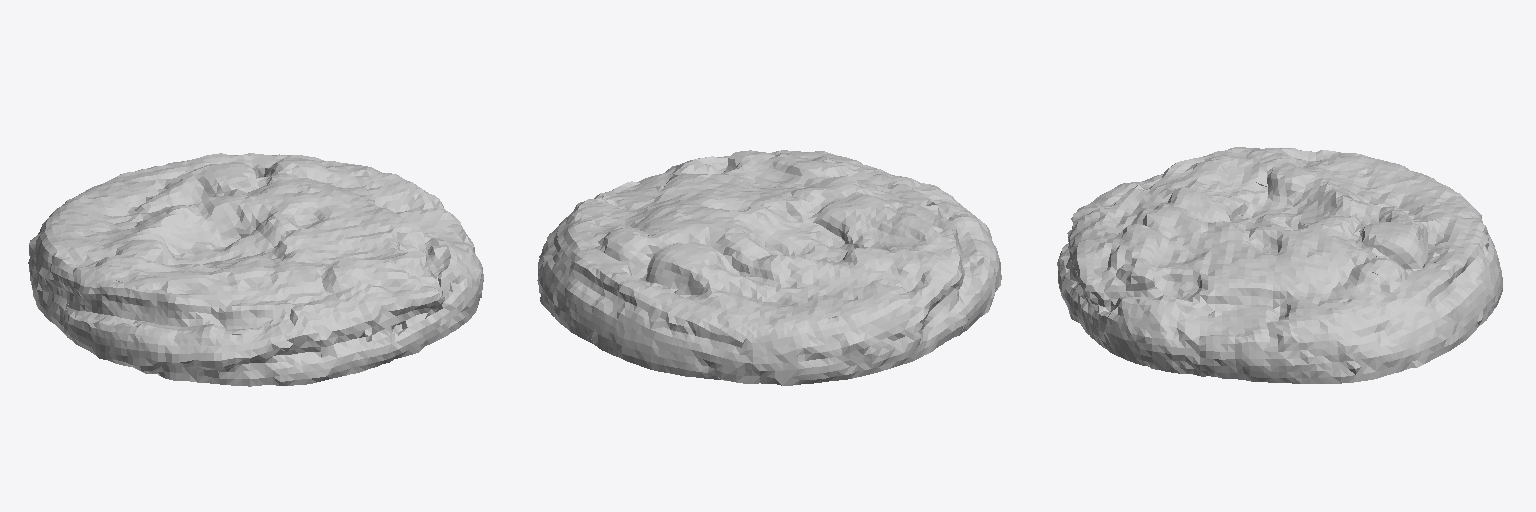
The model's file is cookie.obj.
3 views of the same model, side by side, from view 1: azimuth 30°, elevation 25°; view 2: azimuth 150°, elevation 25°; view 3: azimuth 270°, elevation 25° (orthographic).
Parts seen in each view (by area): view 1: cookie_COOKIE6; view 2: cookie_COOKIE6; view 3: cookie_COOKIE6.
Boxes of the visible parts, <box> form: cookie_COOKIE6: <box>28,153,483,386</box>; cookie_COOKIE6: <box>537,150,1001,385</box>; cookie_COOKIE6: <box>1057,147,1502,383</box>.
Bounding box in the file's own units: 3.99 × 0.7771 × 3.98.